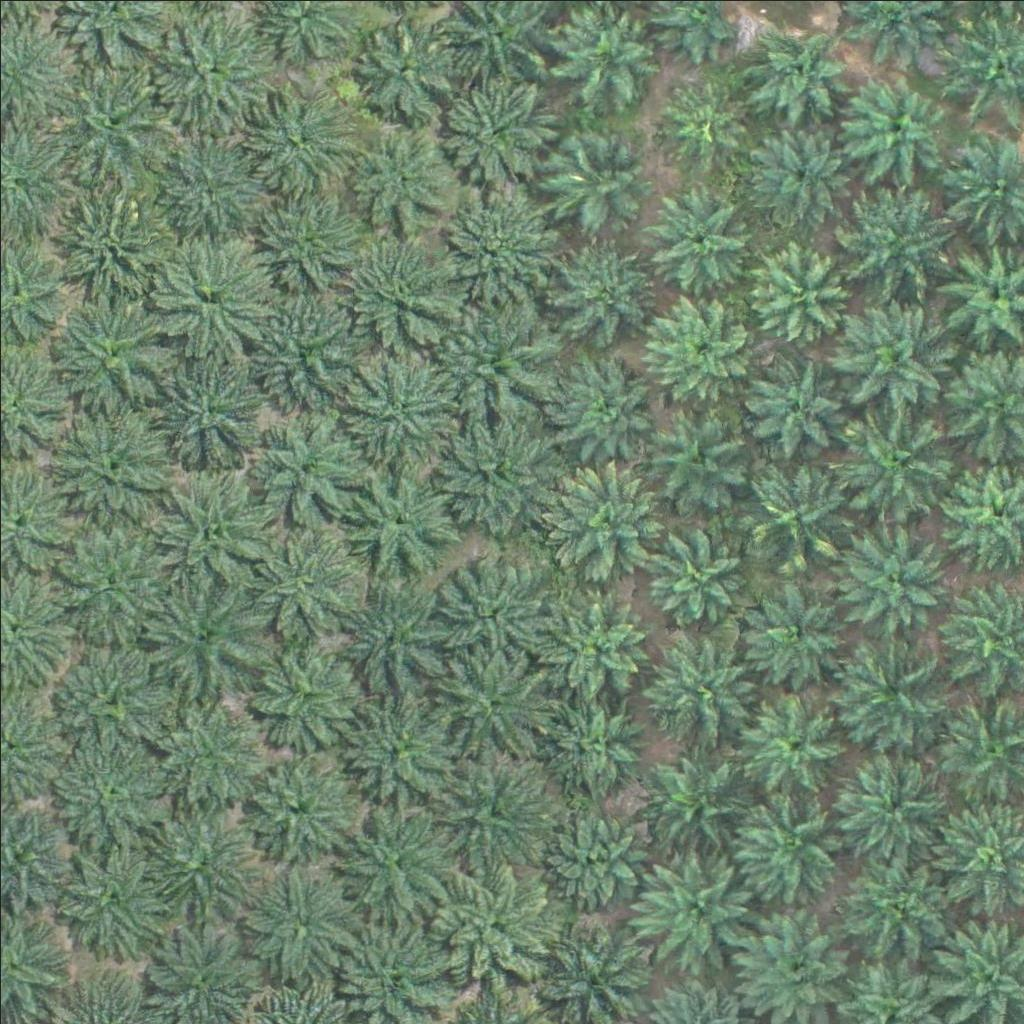Kelapa_Sawit: (423, 847, 548, 973), (829, 288, 954, 414), (540, 464, 665, 590), (544, 347, 669, 473), (427, 406, 552, 532), (427, 295, 552, 421), (233, 859, 358, 985), (137, 798, 262, 924), (327, 576, 452, 702), (140, 570, 265, 696), (151, 464, 276, 590), (143, 335, 268, 461), (50, 399, 175, 525), (50, 517, 175, 643), (43, 633, 168, 759), (43, 717, 168, 843), (430, 186, 555, 312), (339, 221, 464, 347), (149, 11, 274, 137), (147, 231, 272, 357), (39, 190, 164, 316), (49, 67, 174, 193), (633, 840, 758, 965), (419, 646, 544, 771), (332, 344, 457, 469), (435, 70, 560, 195), (835, 843, 948, 957), (343, 799, 456, 913), (159, 690, 272, 804), (158, 119, 271, 233), (732, 790, 845, 903), (643, 630, 756, 743), (840, 180, 953, 293), (338, 697, 451, 810), (347, 459, 460, 572), (247, 413, 360, 526), (246, 525, 359, 638), (837, 526, 949, 640), (839, 403, 951, 517), (742, 452, 854, 566), (642, 285, 754, 399), (242, 750, 354, 864), (247, 634, 359, 748), (832, 750, 944, 863), (833, 630, 945, 743), (541, 587, 653, 700), (433, 551, 545, 664), (54, 293, 166, 406), (744, 696, 844, 797), (746, 589, 846, 690), (645, 744, 745, 845), (644, 521, 744, 622), (539, 814, 639, 915), (544, 689, 644, 790), (438, 763, 538, 864), (747, 117, 847, 218), (747, 23, 847, 124), (846, 77, 946, 178), (58, 847, 158, 948), (357, 16, 457, 117), (352, 128, 452, 229), (244, 86, 344, 187), (740, 361, 840, 461), (650, 407, 750, 507), (553, 235, 653, 335), (545, 127, 645, 227), (557, 1, 657, 101), (646, 185, 746, 285), (749, 240, 849, 340), (263, 194, 363, 294), (254, 307, 353, 407), (657, 77, 745, 165)
